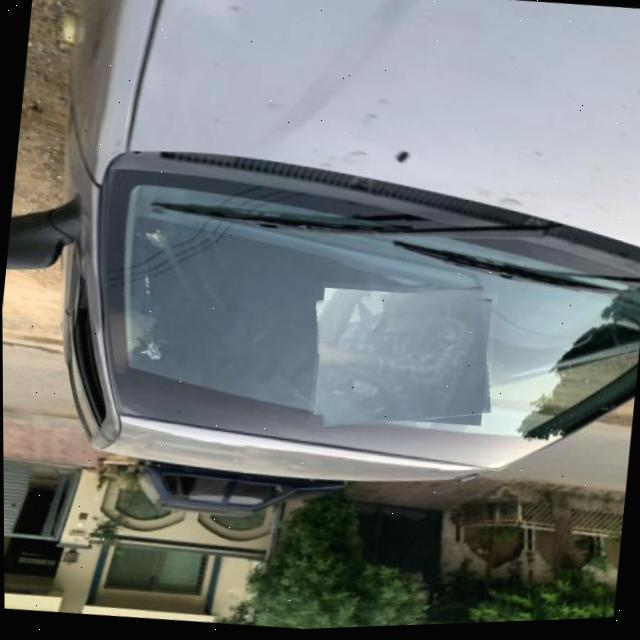seatbelt: (307, 278, 499, 442)
